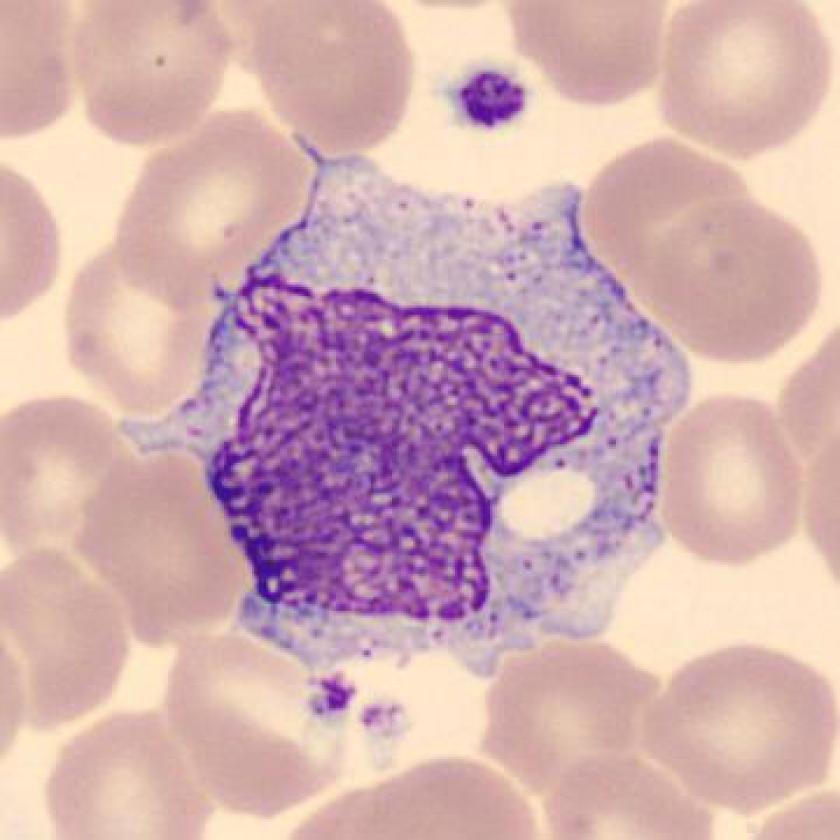monocyte: (146, 124, 717, 705)
